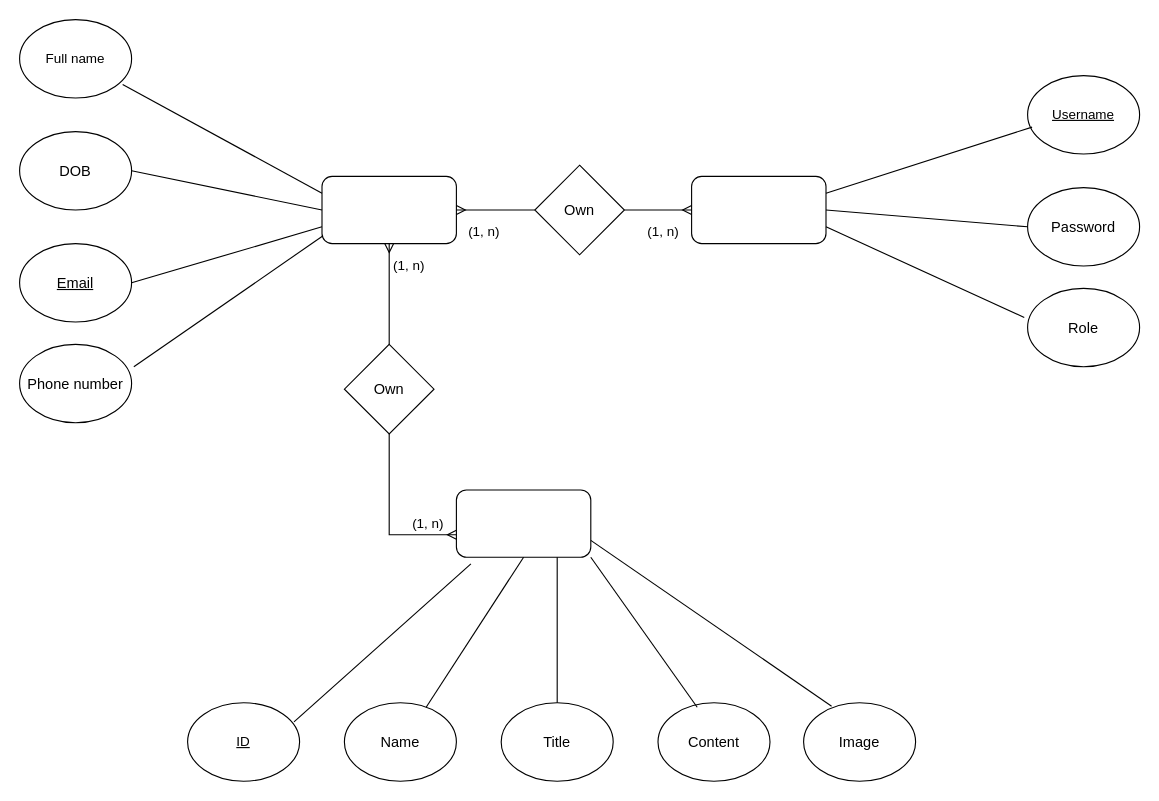
Image size: 1159x801. Some labels were removed from this diagram. Here are the shapes that lost their labels. From the top down, the centre of each, then its label:
At (x=388, y=209): "User".
At (x=758, y=209): "Account".
At (x=523, y=523): "Post".
